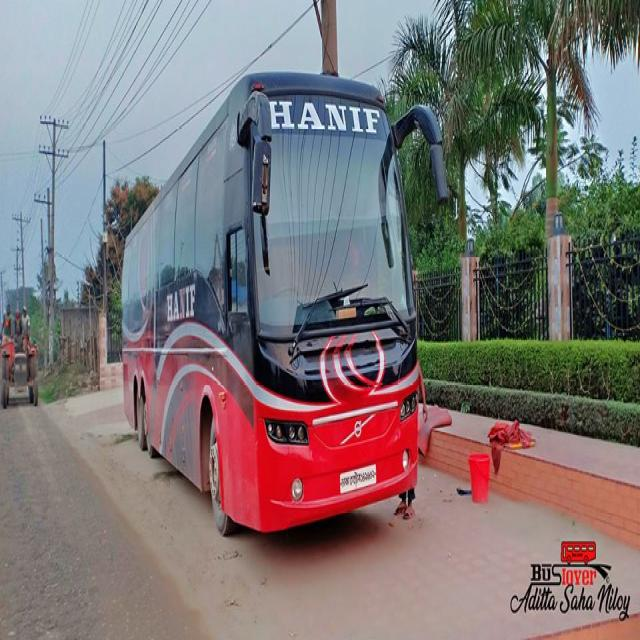bus: (120, 65, 450, 538)
